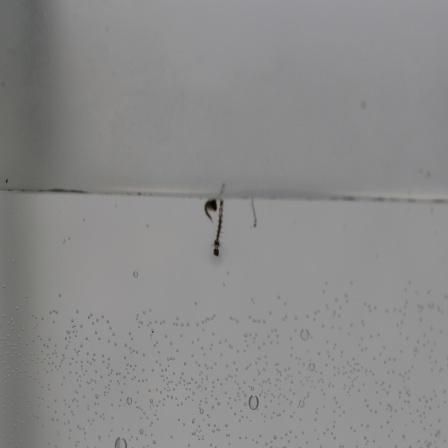Jentik-Nyamuk: (199, 195, 229, 262), (247, 194, 260, 232)
